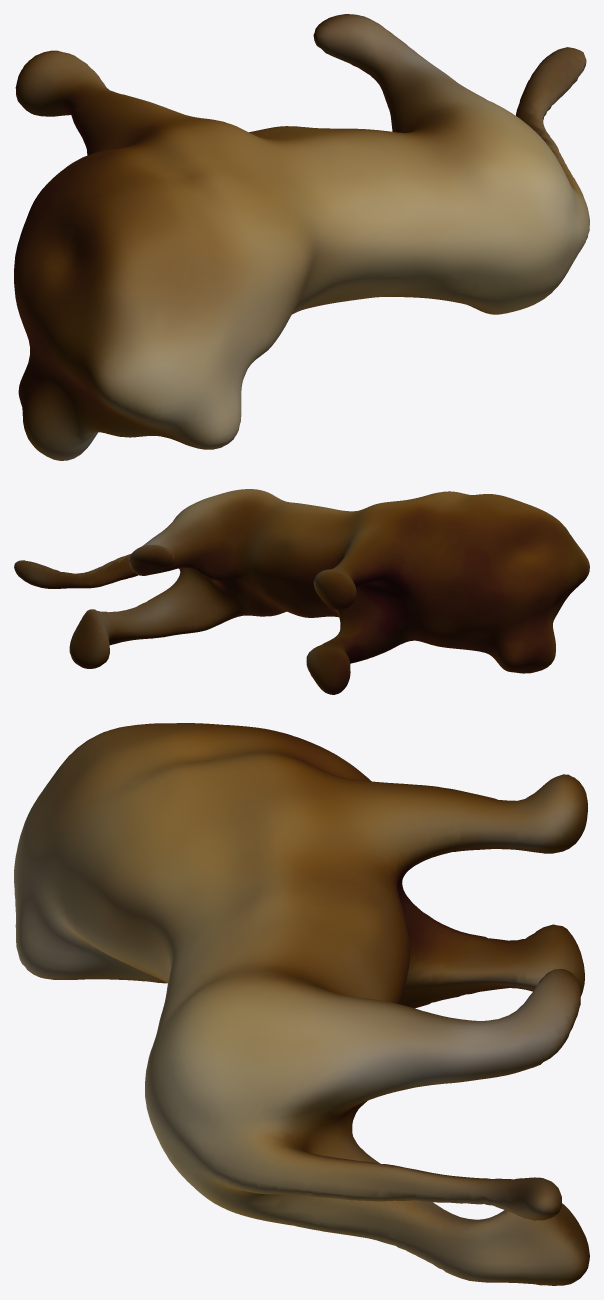
Rendered from lion.glb.
3 views of the same model, one above another, from view 1: azimuth 30°, elevation 25°; view 2: azimuth 150°, elevation 25°; view 3: azimuth 270°, elevation 25° (orthographic). The views are drawn at different scales.
Bounding box in the file's own units: 0.9988 × 0.3585 × 0.6226.
